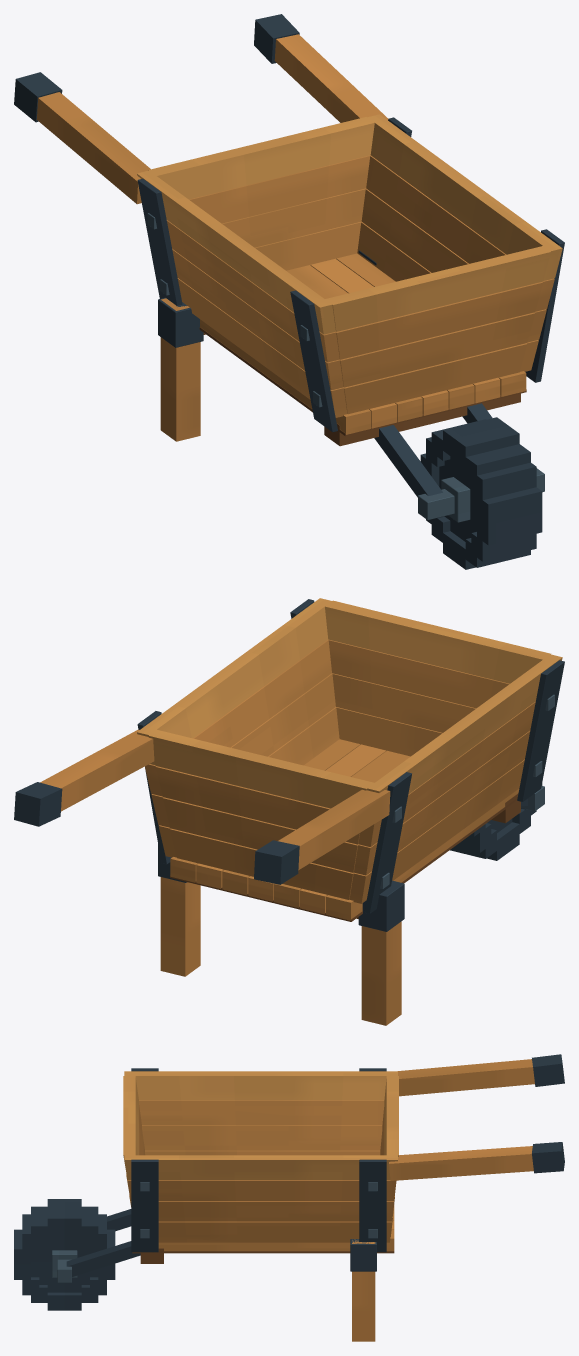
Rendered from SM_VMF_Prop_Wheelbarrow.fbx.
The picture shows the model from 3 angles, top to bottom: view 1: azimuth 30°, elevation 25°; view 2: azimuth 150°, elevation 25°; view 3: azimuth 270°, elevation 25°; orthographic projection. The views are drawn at different scales.
Visible parts, largest first — view 1: SM_VMF_Prop_Wheelbarrow_Bed_Walls, SM_VMF_Prop_Wheelbarrow_Pivot_Wheel_Wheel, SM_VMF_Prop_Wheelbarrow_Handles, SM_VMF_Prop_Wheelbarrow_Bed_Floor, SM_VMF_Prop_Wheelbarrow_BedBands, SM_VMF_Prop_Wheelbarrow_SupportLegs, SM_VMF_Prop_Wheelbarrow_HandleCaps, SM_VMF_Prop_Wheelbarrow_WheelFork, SM_VMF_Prop_Wheelbarrow_LegCollars, SM_VMF_Prop_Wheelbarrow_Axle_Shaft, SM_VMF_Prop_Wheelbarrow_Pivot_Wheel_Hub; view 2: SM_VMF_Prop_Wheelbarrow_Bed_Walls, SM_VMF_Prop_Wheelbarrow_SupportLegs, SM_VMF_Prop_Wheelbarrow_Bed_Floor, SM_VMF_Prop_Wheelbarrow_Handles, SM_VMF_Prop_Wheelbarrow_BedBands, SM_VMF_Prop_Wheelbarrow_HandleCaps, SM_VMF_Prop_Wheelbarrow_Pivot_Wheel_Wheel, SM_VMF_Prop_Wheelbarrow_LegCollars; view 3: SM_VMF_Prop_Wheelbarrow_Bed_Walls, SM_VMF_Prop_Wheelbarrow_Pivot_Wheel_Wheel, SM_VMF_Prop_Wheelbarrow_Handles, SM_VMF_Prop_Wheelbarrow_BedBands, SM_VMF_Prop_Wheelbarrow_Bed_Floor, SM_VMF_Prop_Wheelbarrow_SupportLegs, SM_VMF_Prop_Wheelbarrow_HandleCaps, SM_VMF_Prop_Wheelbarrow_WheelFork, SM_VMF_Prop_Wheelbarrow_LegCollars, SM_VMF_Prop_Wheelbarrow_Rivets, SM_VMF_Prop_Wheelbarrow_Pivot_Wheel_Hub.
Part boxes in pixels (x1,y1,x2,y2): SM_VMF_Prop_Wheelbarrow_Bed_Walls: [137, 114, 562, 417]; SM_VMF_Prop_Wheelbarrow_Pivot_Wheel_Wheel: [420, 417, 542, 569]; SM_VMF_Prop_Wheelbarrow_Handles: [36, 34, 388, 204]; SM_VMF_Prop_Wheelbarrow_Bed_Floor: [199, 253, 526, 436]; SM_VMF_Prop_Wheelbarrow_BedBands: [137, 117, 564, 432]; SM_VMF_Prop_Wheelbarrow_SupportLegs: [160, 298, 520, 446]; SM_VMF_Prop_Wheelbarrow_HandleCaps: [14, 14, 299, 122]; SM_VMF_Prop_Wheelbarrow_WheelFork: [374, 403, 492, 497]; SM_VMF_Prop_Wheelbarrow_LegCollars: [158, 250, 376, 347]; SM_VMF_Prop_Wheelbarrow_Axle_Shaft: [418, 468, 544, 519]; SM_VMF_Prop_Wheelbarrow_Pivot_Wheel_Hub: [441, 477, 470, 522]; SM_VMF_Prop_Wheelbarrow_Bed_Walls: [137, 598, 562, 903]; SM_VMF_Prop_Wheelbarrow_SupportLegs: [160, 793, 520, 1025]; SM_VMF_Prop_Wheelbarrow_Bed_Floor: [170, 739, 519, 921]; SM_VMF_Prop_Wheelbarrow_Handles: [40, 729, 390, 870]; SM_VMF_Prop_Wheelbarrow_BedBands: [137, 599, 564, 913]; SM_VMF_Prop_Wheelbarrow_HandleCaps: [14, 782, 299, 884]; SM_VMF_Prop_Wheelbarrow_Pivot_Wheel_Wheel: [450, 783, 542, 860]; SM_VMF_Prop_Wheelbarrow_LegCollars: [158, 844, 404, 931]; SM_VMF_Prop_Wheelbarrow_Bed_Walls: [123, 1071, 398, 1242]; SM_VMF_Prop_Wheelbarrow_Pivot_Wheel_Wheel: [14, 1199, 115, 1310]; SM_VMF_Prop_Wheelbarrow_Handles: [389, 1059, 534, 1180]; SM_VMF_Prop_Wheelbarrow_BedBands: [131, 1068, 386, 1252]; SM_VMF_Prop_Wheelbarrow_Bed_Floor: [132, 1205, 394, 1253]; SM_VMF_Prop_Wheelbarrow_SupportLegs: [140, 1239, 375, 1341]; SM_VMF_Prop_Wheelbarrow_HandleCaps: [532, 1054, 564, 1173]; SM_VMF_Prop_Wheelbarrow_WheelFork: [66, 1209, 140, 1276]; SM_VMF_Prop_Wheelbarrow_LegCollars: [350, 1239, 376, 1271]; SM_VMF_Prop_Wheelbarrow_Rivets: [140, 1182, 377, 1238]; SM_VMF_Prop_Wheelbarrow_Pivot_Wheel_Hub: [52, 1250, 77, 1277].
Size of the model in its own units: 109 by 103 by 261.
1 material, 1 textured.
